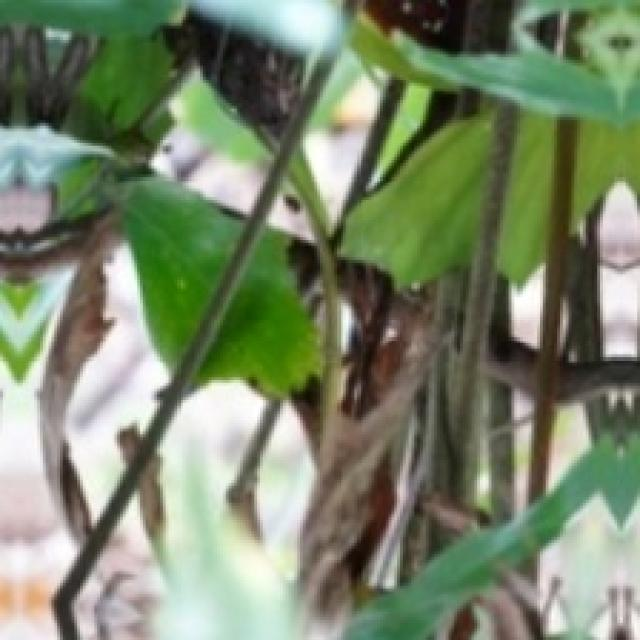paradise tree snake: (0, 23, 94, 126), (0, 126, 77, 231)
